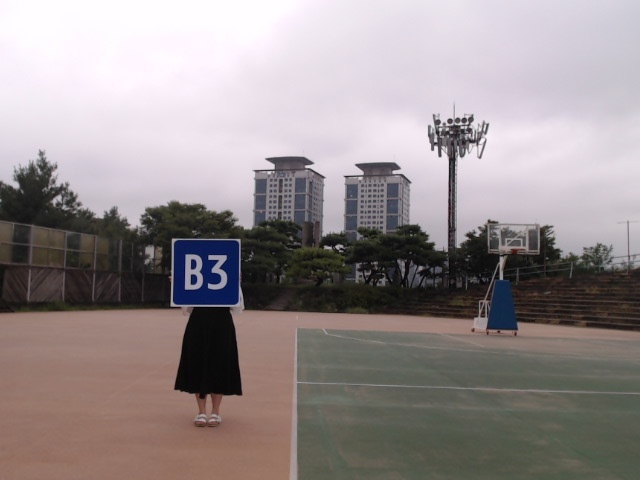delivery_b3: (172, 240, 240, 305)
